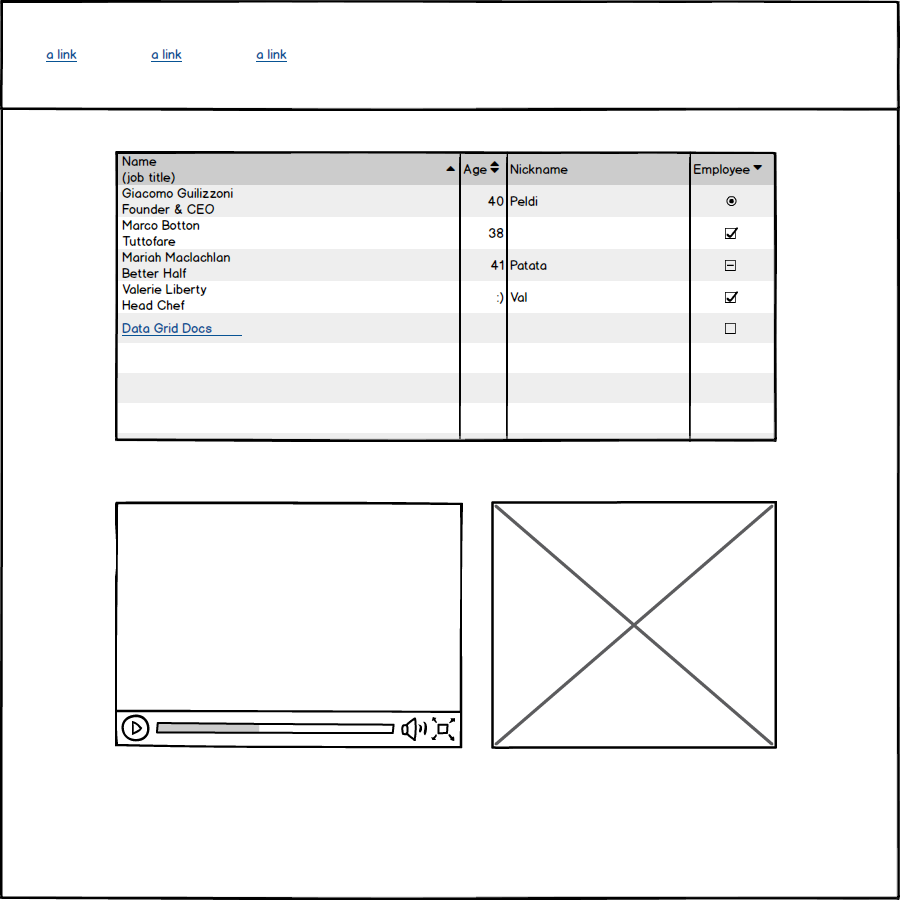image: (486, 496, 783, 754)
navlink: (133, 38, 196, 70), (31, 38, 90, 70), (248, 41, 298, 67)
table: (108, 147, 782, 445)
video: (107, 495, 472, 754)
